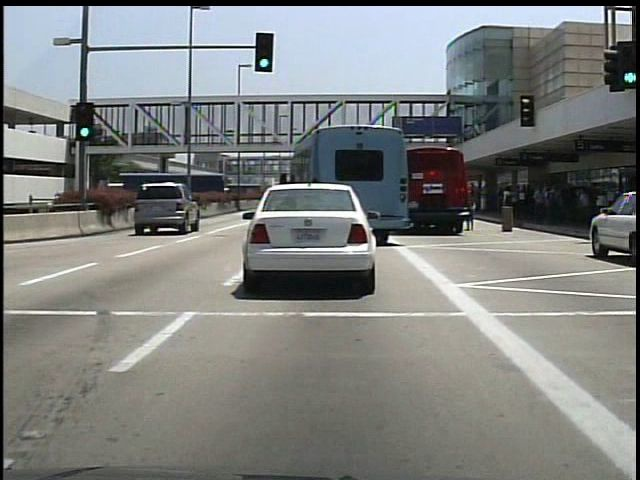person: (468, 185, 481, 235)
